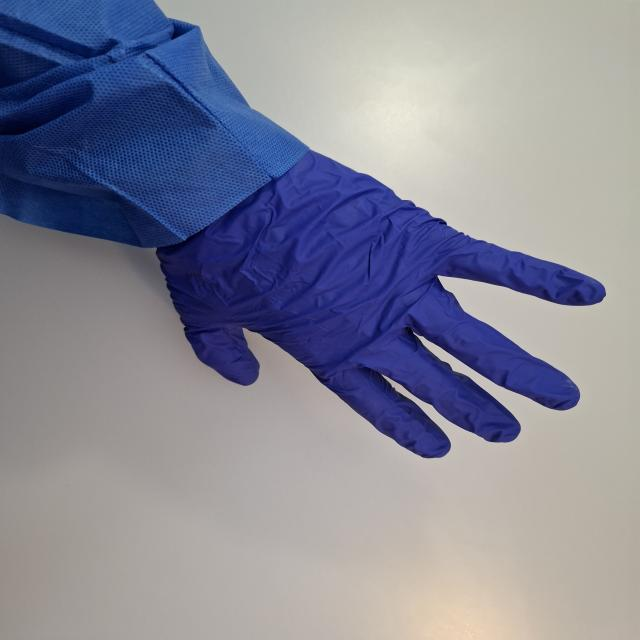glove_on: (151, 146, 608, 460)
